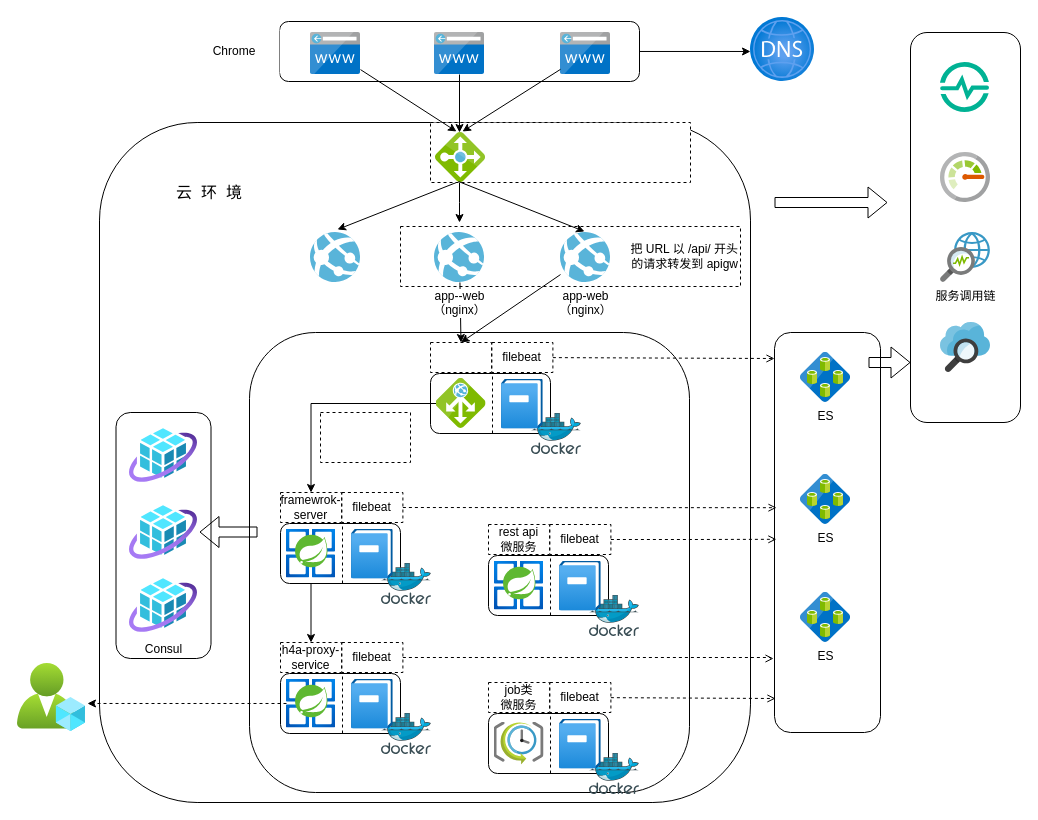
The diagram is 1038 pixels wide and 820 high, and some of its shapes have lost their labels. Here are the shapes that lost their labels. From the top down, the box of each, then its label:
(940, 62, 989, 112): 健康检查
(430, 122, 690, 182): 负载均衡器 nginx 根据域名找到web容器
(940, 152, 990, 202): 资源占用
(310, 232, 360, 282): Framework-web （nginx）
(430, 342, 492, 372): web api gateway
(940, 322, 990, 372): 日志查询功能
(320, 412, 410, 462): 读取用户信息 读取权限信息 读取应用列表
(774, 332, 880, 732): 微服务的运行日志
(17, 663, 85, 731): H4A
